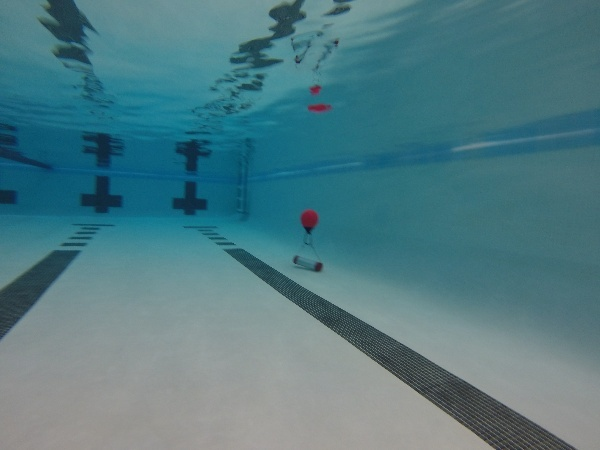buoy_red: (299, 207, 320, 236)
